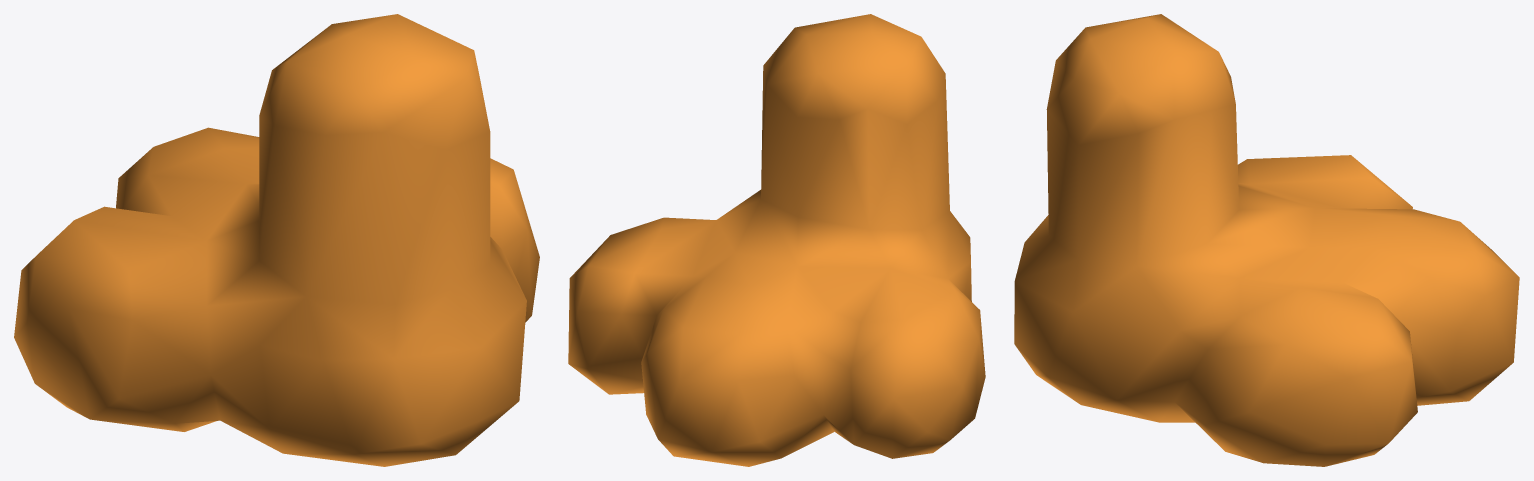
File: fitted.glb
The picture shows the model from 3 angles, left to right: view 1: azimuth 30°, elevation 25°; view 2: azimuth 150°, elevation 25°; view 3: azimuth 270°, elevation 25°; orthographic projection. The views are drawn at different scales.
Size of the model in its own units: 1.28 by 1.04 by 1.33.
Materials: 1 (1 with a texture image).
